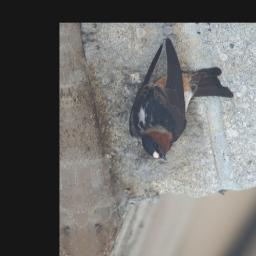Swallow: (117, 31, 241, 165)
